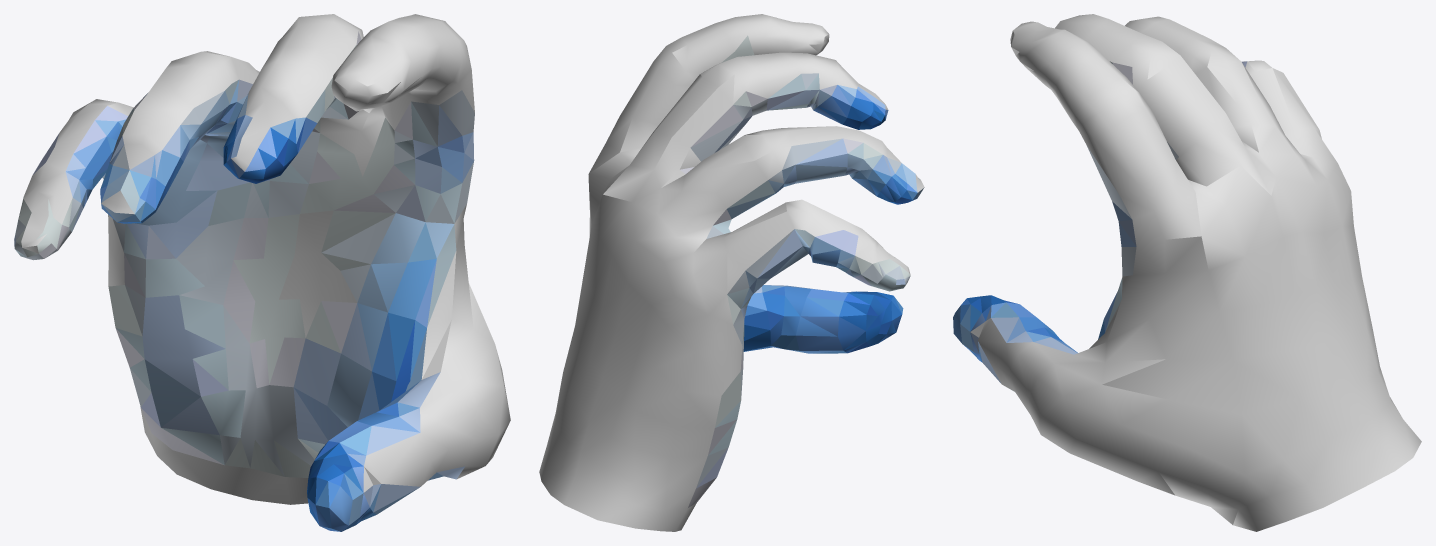
File: glove_cube.glb
The picture shows the model from 3 angles, left to right: view 1: azimuth 30°, elevation 25°; view 2: azimuth 150°, elevation 25°; view 3: azimuth 270°, elevation 25°; orthographic projection. The views are drawn at different scales.
Parts seen in each view (by area): view 1: mesh0; view 2: mesh0; view 3: mesh0.
Part boxes in pixels (x1,y1,x2,y2): mesh0: [14, 14, 510, 531]; mesh0: [539, 14, 924, 531]; mesh0: [953, 14, 1421, 531].
Size of the model in its own units: 0.1173 by 0.1442 by 0.1324.
